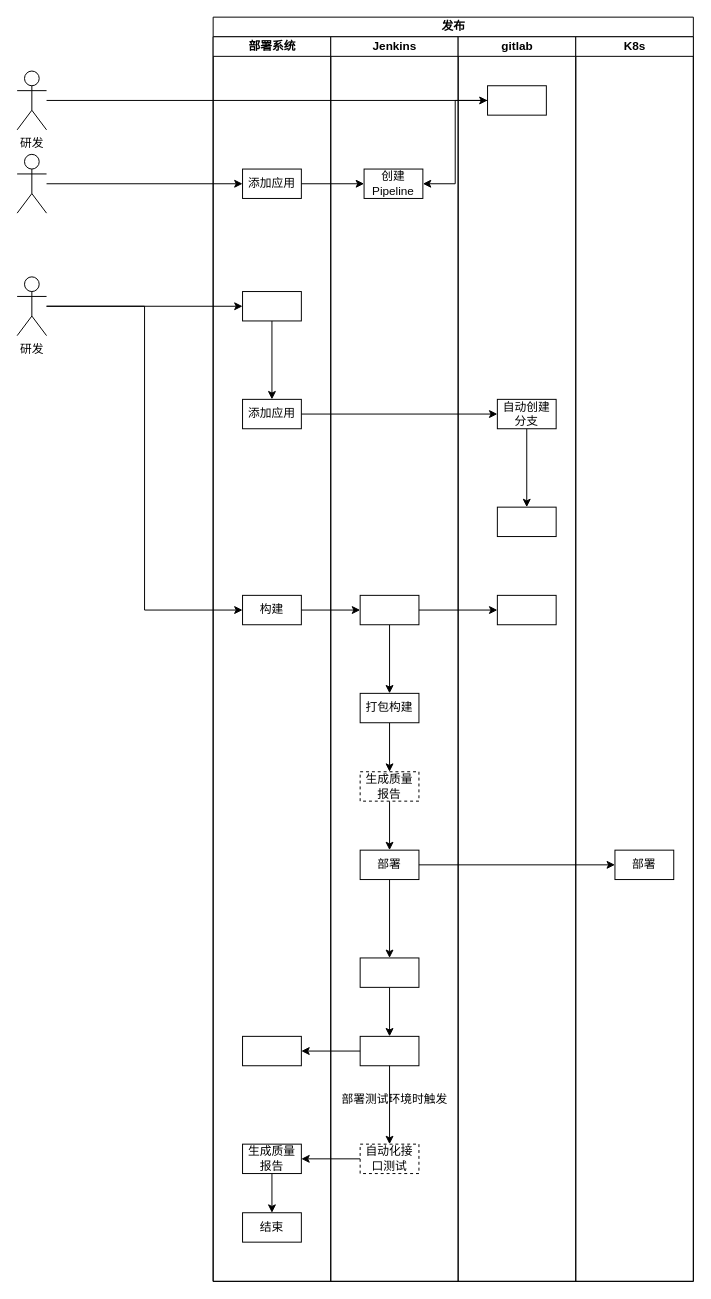
The diagram is 711 pixels wide and 1299 high, and some of its shapes have lost their labels. The centre of each missing label's shape, as x and y in pixels:
创建仓库: (516,100)
创建项目: (271,306)
发布完成: (271,1050)
启动成功: (389,1050)
启动检测: (389,972)
拉取代码: (526,609)
提交代码: (526,521)
触发流水线: (389,609)
运维: (31,183)
